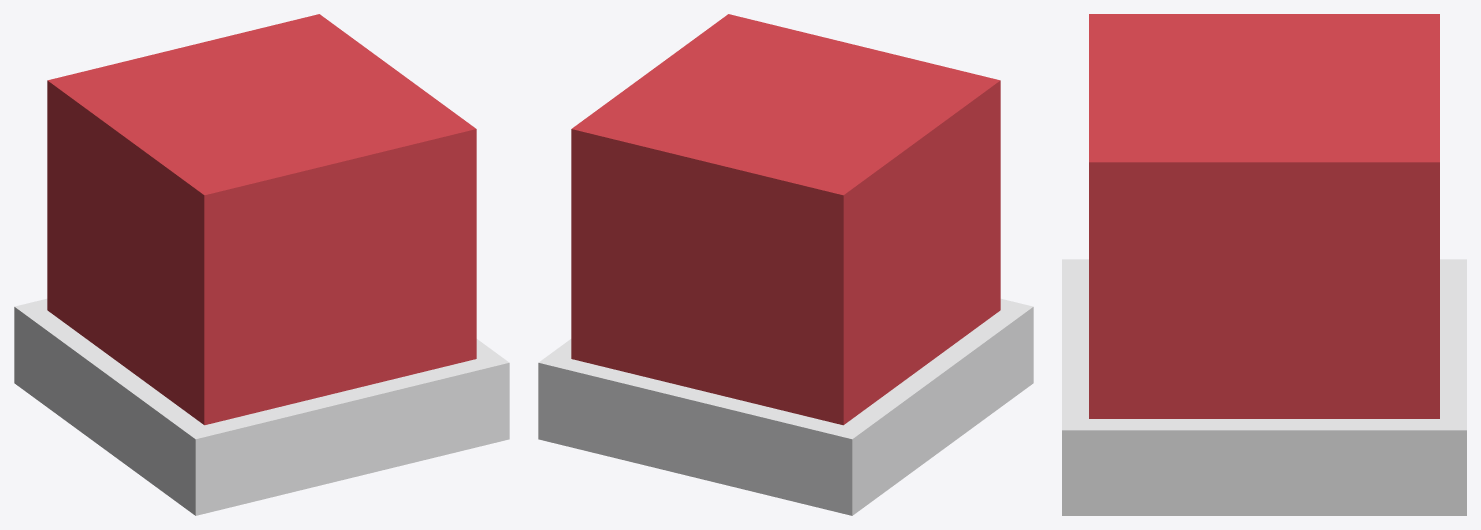
File: noel_canela.glb
The picture shows the model from 3 angles, left to right: view 1: azimuth 30°, elevation 25°; view 2: azimuth 150°, elevation 25°; view 3: azimuth 270°, elevation 25°; orthographic projection. The views are drawn at different scales.
Parts seen in each view (by area): view 1: noel_canela; view 2: noel_canela; view 3: noel_canela.
Boxes of the visible parts, x1,y1,x2,y2 form: noel_canela: [14, 14, 509, 515]; noel_canela: [538, 14, 1033, 515]; noel_canela: [1062, 14, 1466, 515].
Size of the model in its own units: 0.3 by 0.285 by 0.3.
